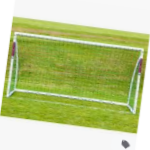goals: (6, 30, 144, 117)
